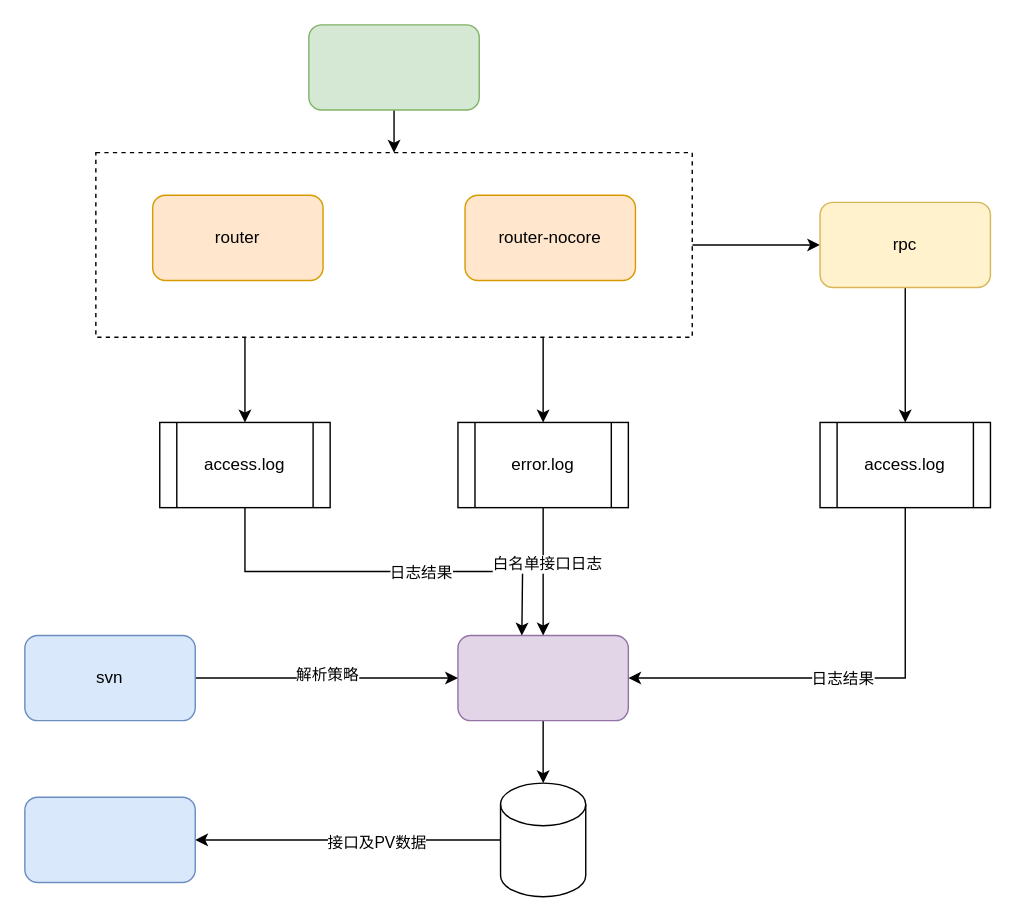
This 1015x922 diagram has some shape labels left out. Here are the shapes that lost their labels. From the top down, the centre of each, then its label:
pixel 393 66: BFE
pixel 542 677: sia
pixel 109 839: ems
